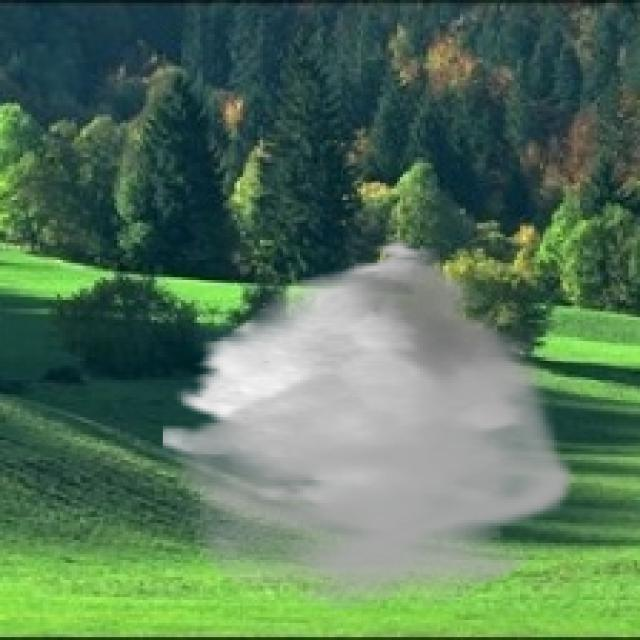Smoke: (163, 237, 580, 612)
